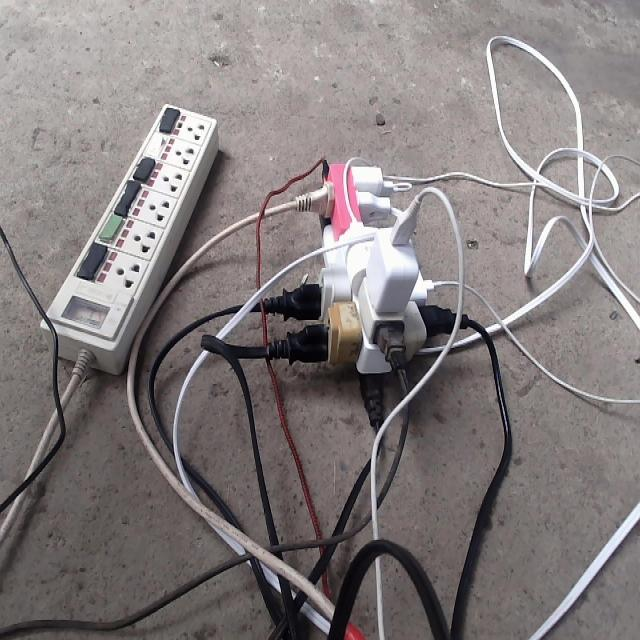-: (281, 153, 451, 424)
